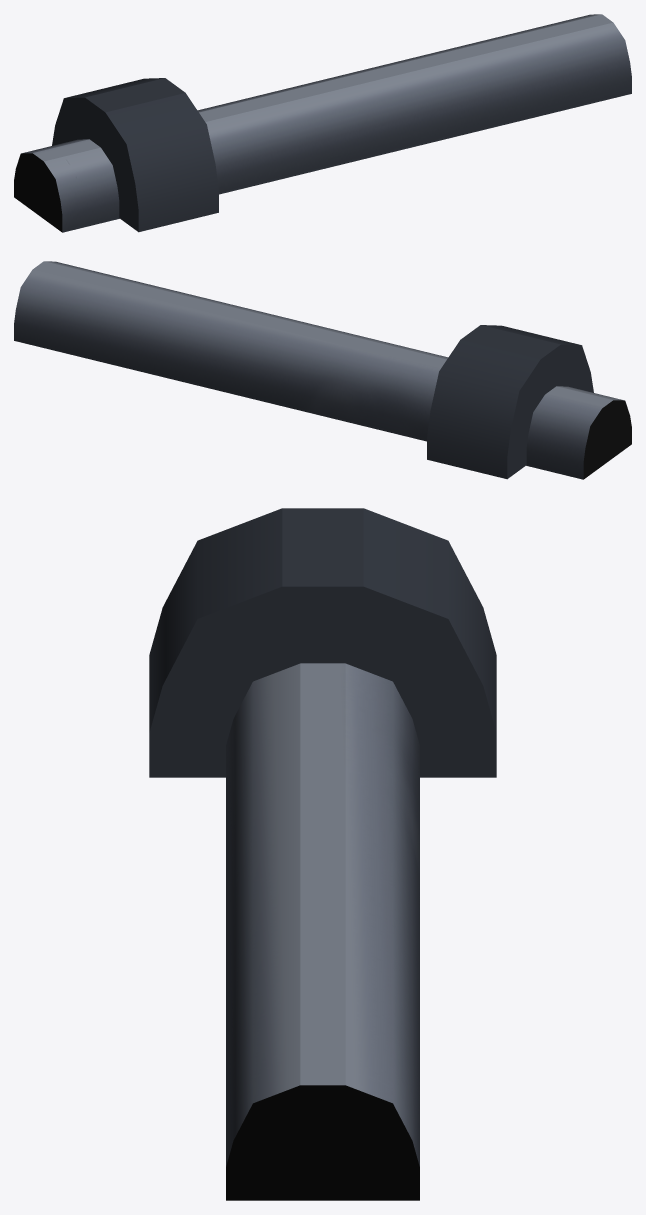
The model's file is yaneue.fbx.
3 renders of one model, top to bottom at view 1: azimuth 30°, elevation 25°; view 2: azimuth 150°, elevation 25°; view 3: azimuth 270°, elevation 25°, orthographic. The views are drawn at different scales.
Parts seen in each view (by area): view 1: pasted__pCube2, pasted__pasted__pasted__pasted__pCube3; view 2: pasted__pCube2, pasted__pasted__pasted__pasted__pCube3; view 3: pasted__pCube2, pasted__pasted__pasted__pasted__pCube3.
Boxes of the visible parts, left/top/right/bottom form: pasted__pCube2: left=14, top=14, right=631, bottom=232; pasted__pasted__pasted__pasted__pCube3: left=52, top=78, right=218, bottom=232; pasted__pCube2: left=14, top=261, right=631, bottom=479; pasted__pasted__pasted__pasted__pCube3: left=427, top=325, right=593, bottom=479; pasted__pCube2: left=226, top=663, right=419, bottom=1200; pasted__pasted__pasted__pasted__pCube3: left=149, top=508, right=496, bottom=777.
Bounding box in the file's own units: 150 × 24.19 × 39.6.
